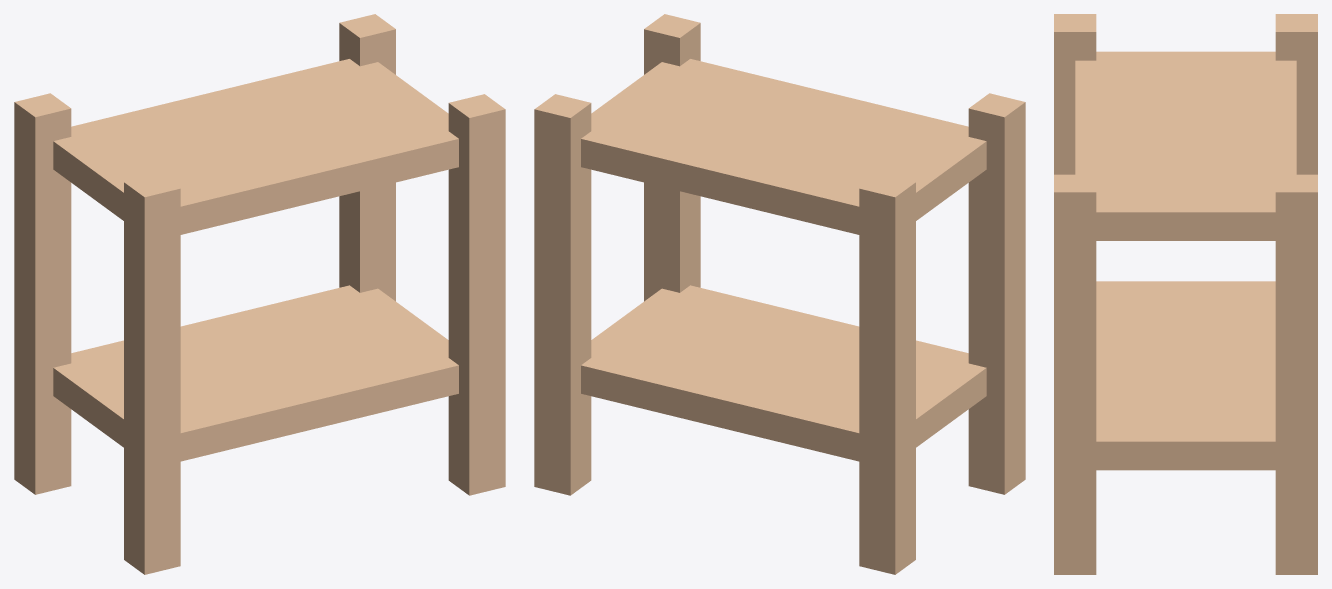
Rendered from bookcaseOpenLow.gltf.
The picture shows the model from 3 angles, left to right: view 1: azimuth 30°, elevation 25°; view 2: azimuth 150°, elevation 25°; view 3: azimuth 270°, elevation 25°; orthographic projection.
Visible parts, largest first — view 1: bookcaseOpenLow(Clone); view 2: bookcaseOpenLow(Clone); view 3: bookcaseOpenLow(Clone).
Boxes of the visible parts, x1,y1,x2,y2 form: bookcaseOpenLow(Clone): (14,14,505,574); bookcaseOpenLow(Clone): (534,14,1025,574); bookcaseOpenLow(Clone): (1054,14,1317,574).
Size of the model in its own units: 0.4 by 0.4 by 0.25.
